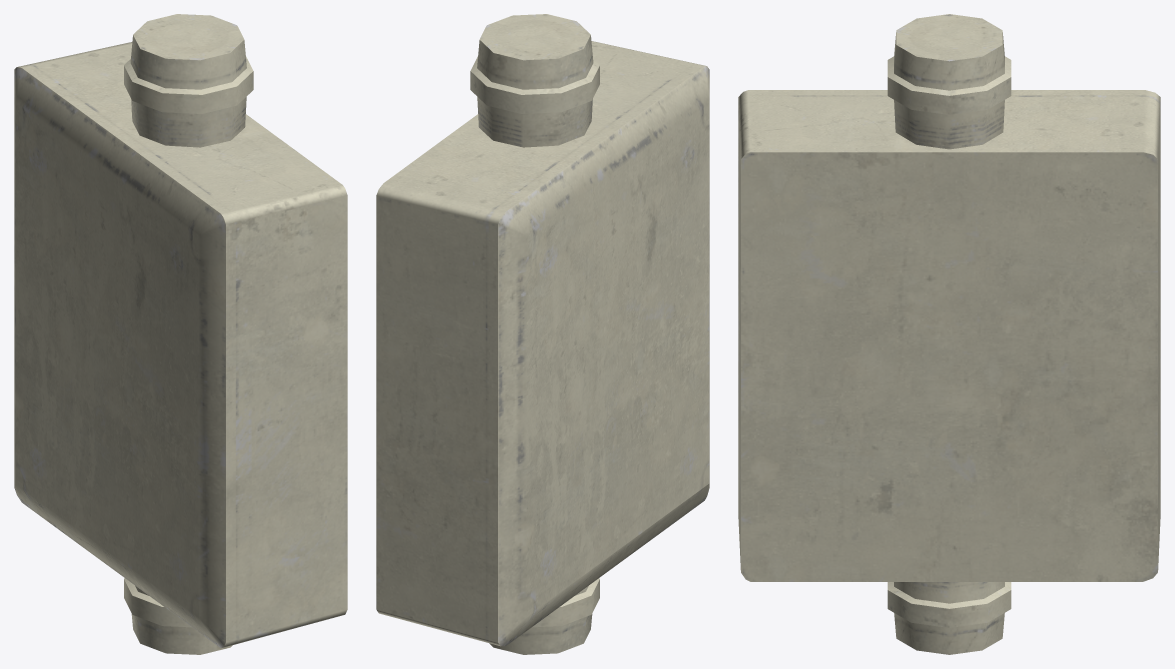
Rendered from SM_Wall_Electrical_Wire_Casing_02d.fbx.
The picture shows the model from 3 angles, left to right: view 1: azimuth 30°, elevation 25°; view 2: azimuth 150°, elevation 25°; view 3: azimuth 270°, elevation 25°; orthographic projection.
Visible parts, largest first — view 1: SM_Wall_Electrical_Wire_Casing_02d_LOD0; view 2: SM_Wall_Electrical_Wire_Casing_02d_LOD0; view 3: SM_Wall_Electrical_Wire_Casing_02d_LOD0.
Boxes of the visible parts, <box> form: SM_Wall_Electrical_Wire_Casing_02d_LOD0: <box>14,14,347,654</box>; SM_Wall_Electrical_Wire_Casing_02d_LOD0: <box>376,14,709,654</box>; SM_Wall_Electrical_Wire_Casing_02d_LOD0: <box>738,14,1160,654</box>.
Bounding box in the file's own units: 3.06 × 8.09 × 12.55.
